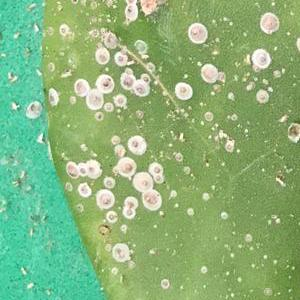Femea: (136, 173, 152, 191), (88, 92, 103, 109), (173, 83, 188, 98), (128, 140, 144, 154), (98, 192, 113, 206), (113, 94, 128, 106), (119, 73, 132, 86), (95, 78, 110, 89), (87, 162, 99, 175), (121, 206, 134, 216), (101, 103, 115, 112), (92, 111, 104, 121), (78, 185, 88, 197), (105, 211, 116, 221), (76, 163, 86, 174), (151, 165, 161, 174), (102, 178, 111, 188), (154, 176, 165, 184), (140, 74, 150, 82), (124, 197, 134, 205)
Linfa: (213, 127, 225, 142), (267, 212, 281, 224), (175, 131, 187, 142), (276, 113, 287, 124), (201, 191, 210, 202), (218, 158, 227, 168), (204, 160, 212, 170), (219, 211, 230, 218), (185, 208, 194, 216), (207, 89, 217, 96), (245, 82, 253, 90), (246, 245, 256, 251), (249, 262, 257, 269), (262, 251, 268, 260), (236, 276, 242, 283), (229, 252, 236, 258), (272, 259, 278, 265), (237, 243, 242, 250)
Macho: (272, 175, 289, 188), (125, 56, 135, 66)
